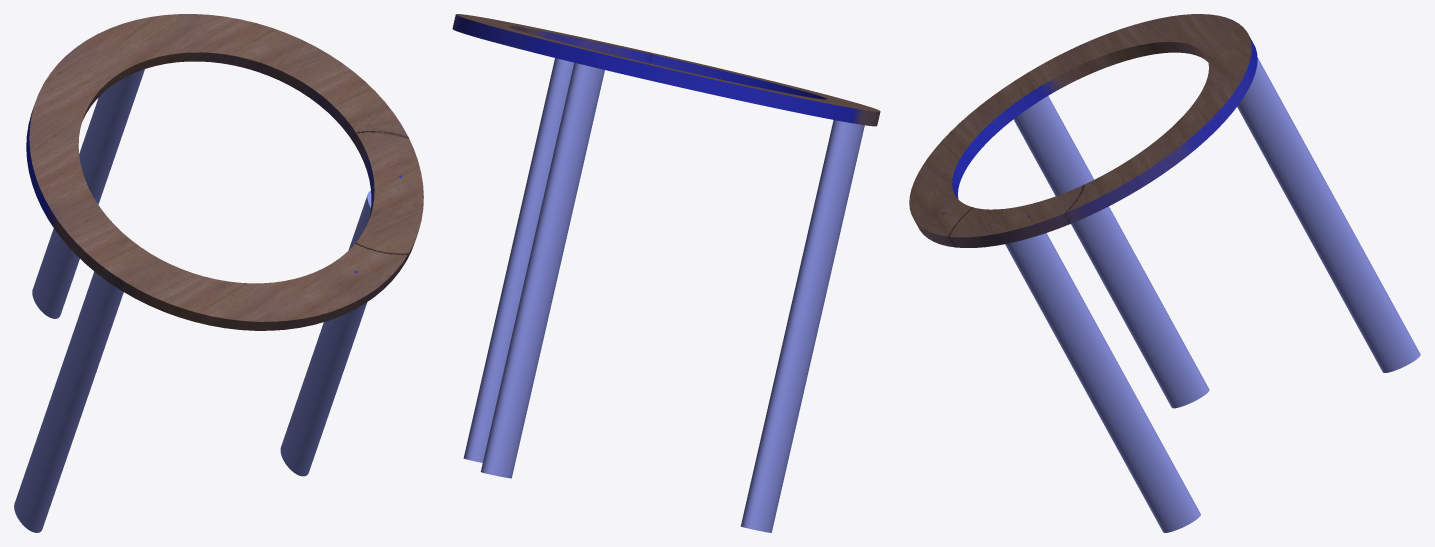
Rendered from 3dscanner.glb.
3 views of the same model, side by side, from view 1: azimuth 30°, elevation 25°; view 2: azimuth 150°, elevation 25°; view 3: azimuth 270°, elevation 25° (orthographic). The views are drawn at different scales.
Visible parts, largest first — view 1: mesh_id51, mesh_id105, mesh_id123, mesh_id114; view 2: mesh_id123, mesh_id105, mesh_id51, mesh_id114; view 3: mesh_id51, mesh_id114, mesh_id123, mesh_id105.
Boxes of the visible parts, box(x1,y1,x2,y2) form: mesh_id51: box(26, 14, 423, 330); mesh_id105: box(14, 271, 123, 532); mesh_id123: box(32, 69, 144, 318); mesh_id114: box(280, 190, 371, 476); mesh_id123: box(480, 62, 604, 478); mesh_id105: box(740, 120, 864, 532); mesh_id51: box(452, 14, 880, 126); mesh_id114: box(463, 58, 573, 462); mesh_id51: box(909, 14, 1257, 247); mesh_id114: box(1005, 233, 1200, 532); mesh_id123: box(1237, 58, 1420, 372); mesh_id105: box(1013, 96, 1209, 408).
Bounding box in the file's own units: 0.6536 × 0.8048 × 0.8737.
Materials: 4 (1 with a texture image).
